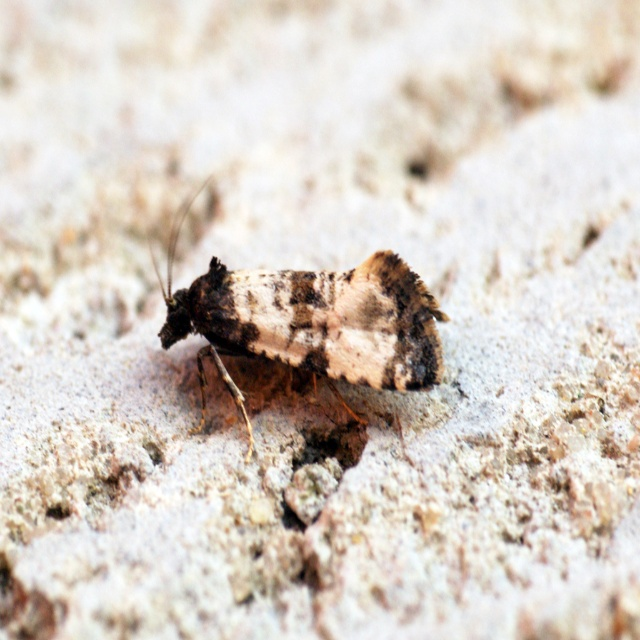Moths and butterflies: (145, 173, 453, 467)
